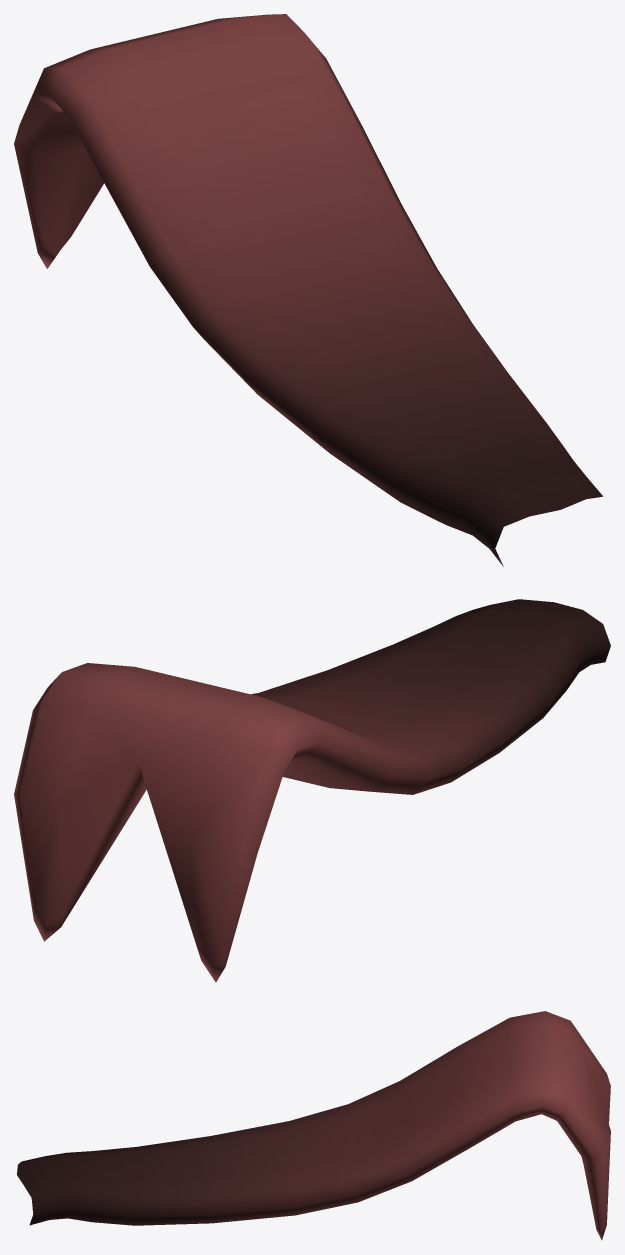
Rendered from forked.glb.
The picture shows the model from 3 angles, top to bottom: view 1: azimuth 30°, elevation 25°; view 2: azimuth 150°, elevation 25°; view 3: azimuth 270°, elevation 25°; orthographic projection. The views are drawn at different scales.
Visible parts, largest first — view 1: cc_forked5; view 2: cc_forked5; view 3: cc_forked5.
Boxes of the visible parts, x1,y1,x2,y2 form: cc_forked5: (14, 14, 602, 566); cc_forked5: (14, 599, 610, 982); cc_forked5: (17, 1011, 610, 1240).
Bounding box in the file's own units: 0.0549 × 0.0504 × 0.1625.
Materials: 1 (1 with a texture image).
